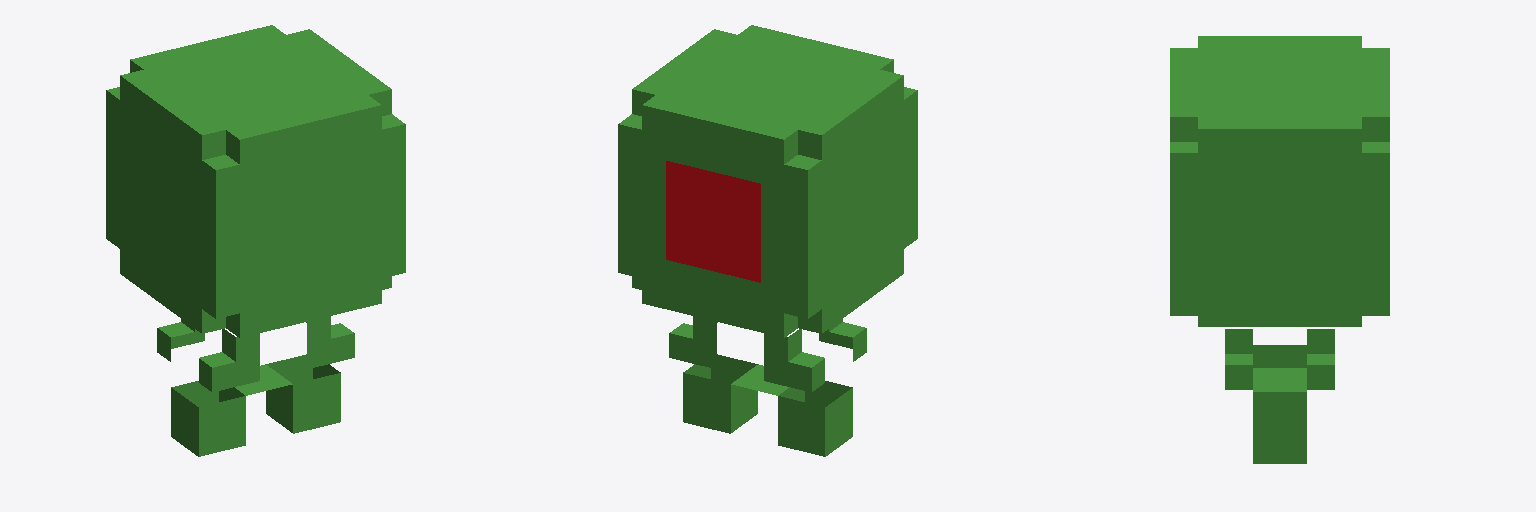
3 views of the same model, side by side, from view 1: azimuth 30°, elevation 25°; view 2: azimuth 150°, elevation 25°; view 3: azimuth 270°, elevation 25° (orthographic).
Bounding box in the file's own units: 8 × 14 × 8.
1 materials, 1 textured.